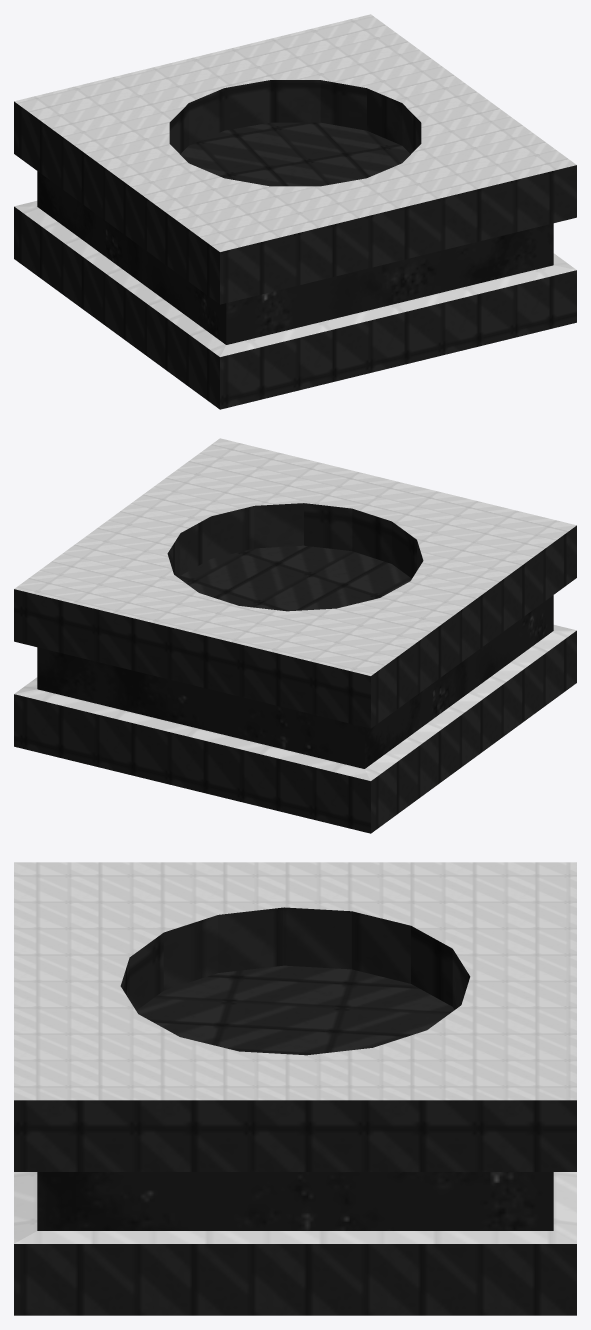
The model's file is Artifact Stand.fbx.
3 renders of one model, top to bottom at view 1: azimuth 30°, elevation 25°; view 2: azimuth 150°, elevation 25°; view 3: azimuth 270°, elevation 25°, orthographic. The views are drawn at different scales.
Visible parts, largest first — view 1: Cube; view 2: Cube; view 3: Cube.
Boxes of the visible parts, x1,y1,x2,y2 form: Cube: (14,14,576,409); Cube: (14,438,576,833); Cube: (14,862,576,1315).
Bounding box in the file's own units: 200 × 84.36 × 200.
